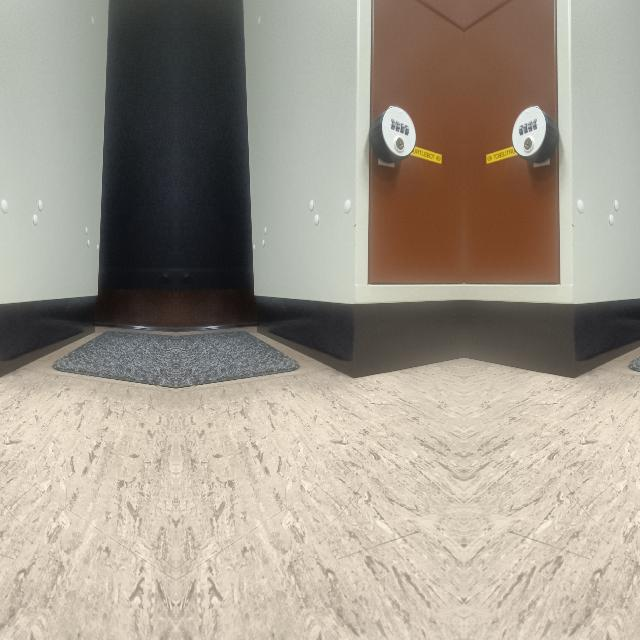obstacle: (244, 91, 464, 381), (464, 91, 640, 381), (0, 91, 106, 381)
